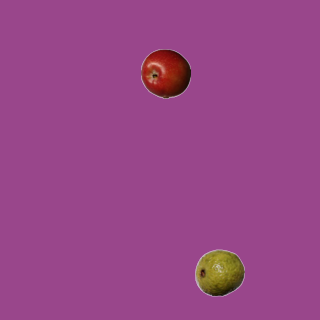Apple Braeburn: (140, 48, 190, 98)
Guava: (194, 247, 244, 297)
